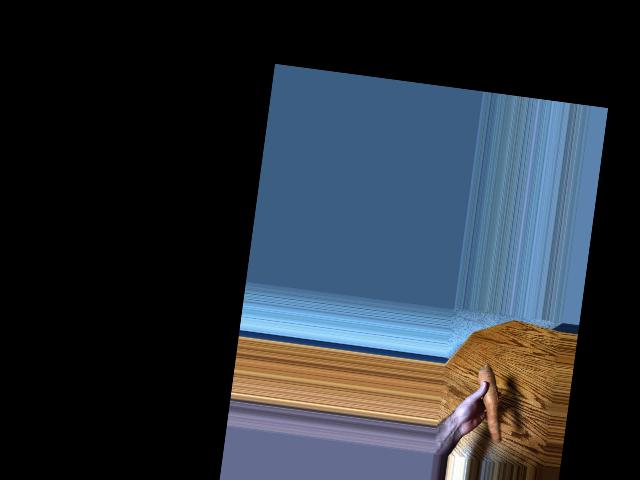sweet_potato: (473, 365, 504, 446)
